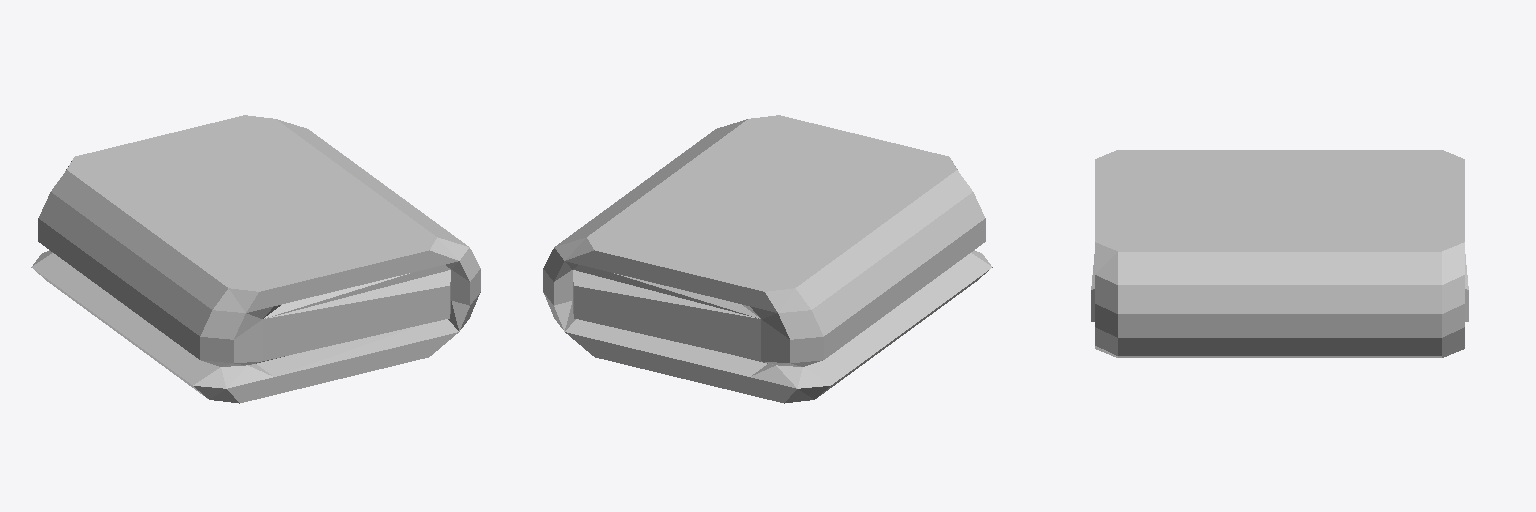
The model's file is Room_301_0_10.obj.
3 views of the same model, side by side, from view 1: azimuth 30°, elevation 25°; view 2: azimuth 150°, elevation 25°; view 3: azimuth 270°, elevation 25° (orthographic).
Parts seen in each view (by area): view 1: Towel; view 2: Towel; view 3: Towel.
Boxes of the visible parts, x1,y1,x2,y2 form: Towel: [31, 115, 480, 403]; Towel: [543, 115, 992, 403]; Towel: [1091, 150, 1468, 357].
Bounding box in the file's own units: 0.4533 × 0.1609 × 0.5154.